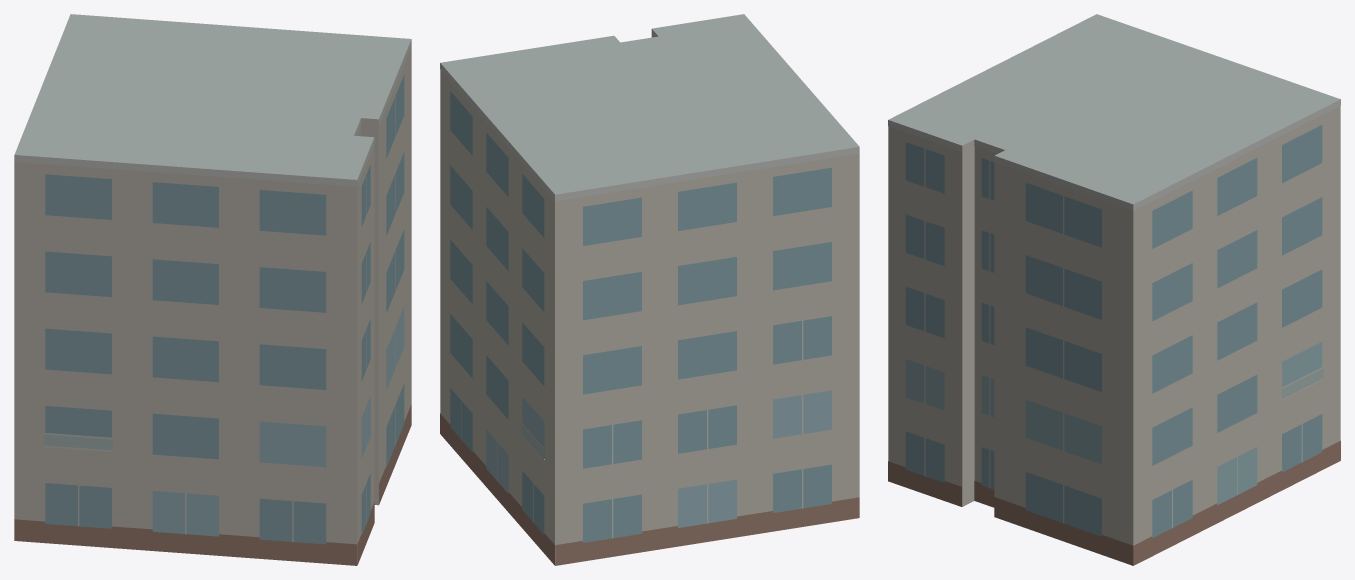
The model's file is survey-upis-32887703.glb.
3 views of the same model, side by side, from view 1: azimuth 30°, elevation 25°; view 2: azimuth 150°, elevation 25°; view 3: azimuth 270°, elevation 25° (orthographic). The views are drawn at different scales.
Parts seen in each view (by area): view 1: survey-upis-32887703.tmp; view 2: survey-upis-32887703.tmp; view 3: survey-upis-32887703.tmp.
Boxes of the visible parts, x1,y1,x2,y2 form: survey-upis-32887703.tmp: (14, 14, 411, 565); survey-upis-32887703.tmp: (440, 14, 859, 565); survey-upis-32887703.tmp: (888, 14, 1340, 565).
Bounding box in the file's own units: 15.49 × 13.7 × 15.56.
